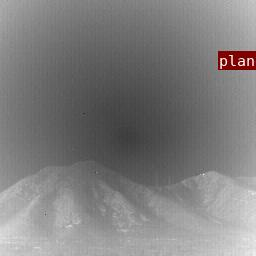plane: (218, 51, 234, 68)
